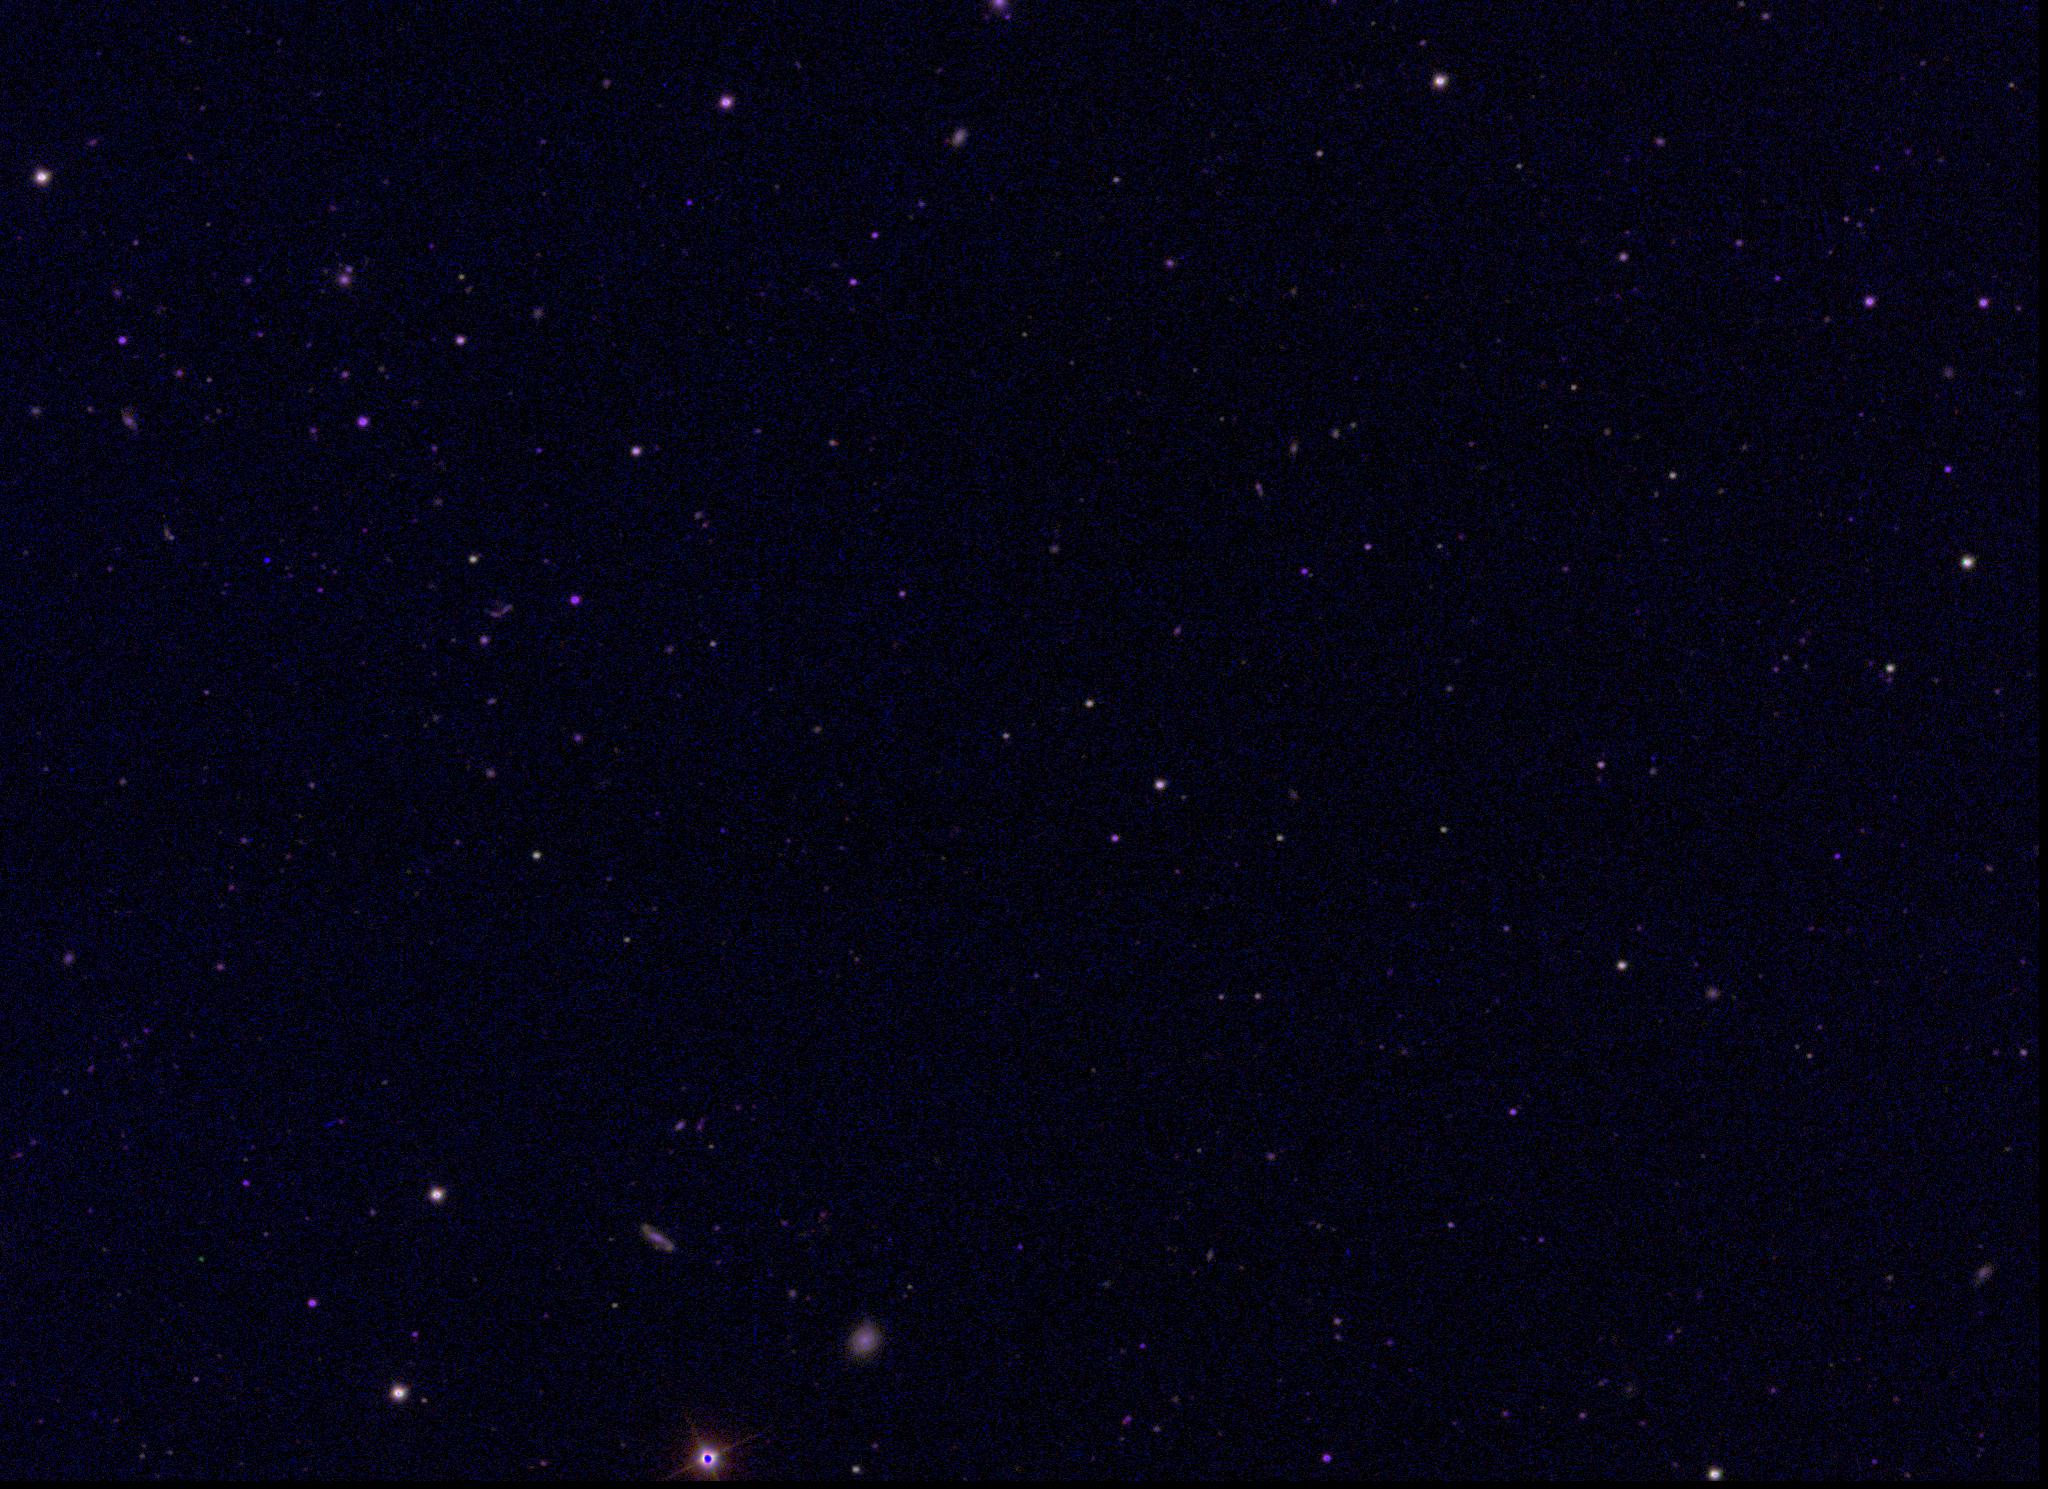L: (261, 550, 273, 565)
